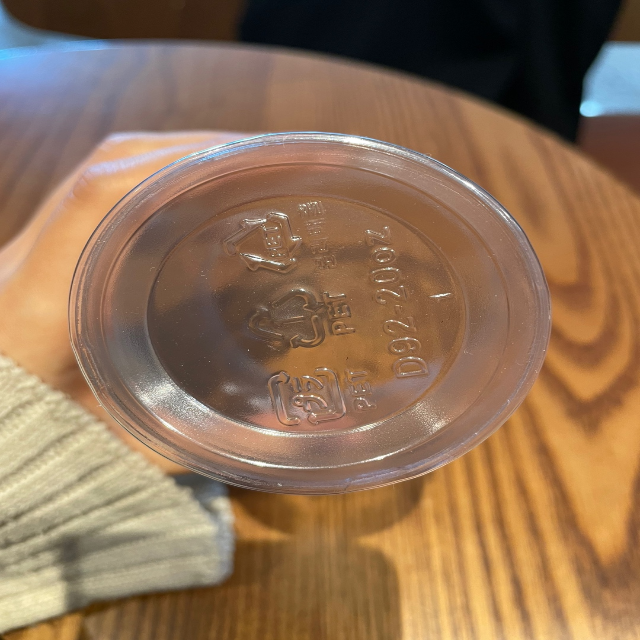pet: (221, 192, 346, 278), (237, 279, 365, 359), (261, 359, 380, 429)
